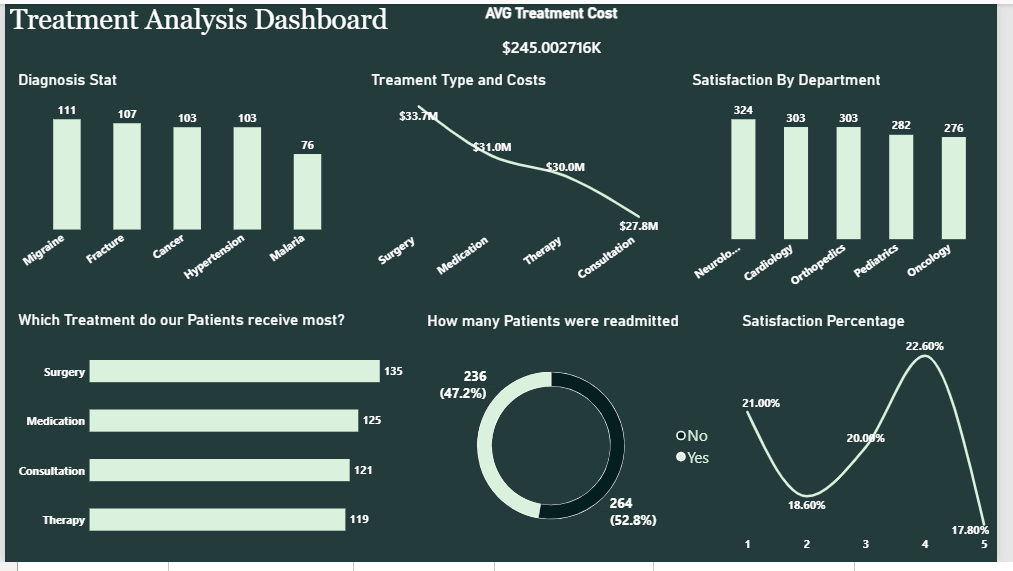

The dashboard page shown, as its layout file describes it:
{"tool":"powerbi","page":{"name":"Treatment Dashboard","canvas":[1920,1080],"ordinal":3},"visuals":[{"type":"textbox","box":[10,0,776,84],"z":0},{"type":"columnChart","title":"Diagnosis Stat","fields":{"Category":["HealthcareData.Diagnosis"],"Y":["CountNonNull(HealthcareData.Patient_ID)"]},"box":[10,115,670,453.3],"z":1000},{"type":"clusteredBarChart","title":"Which Treatment do our  Patients receive most?","fields":{"Category":["HealthcareData.Treatment_Type"],"Y":["CountNonNull(HealthcareData.Patient_ID)"]},"box":[10,579.6,776.7,500],"z":2000},{"type":"lineChart","title":"Treament Type and Costs","fields":{"Category":["HealthcareData.Treatment_Type"],"Y":["Sum(HealthcareData.Treatment_Cost)"]},"box":[693.3,115,606.7,453.3],"z":3000},{"type":"donutChart","title":"How many Patients were readmitted","fields":{"Category":["HealthcareData.Readmission"],"Y":["CountNonNull(HealthcareData.Patient_ID)"]},"box":[801.7,580,586.7,500],"z":4000},{"type":"lineChart","title":"Satisfaction Percentage","fields":{"Category":["HealthcareData.Patient_Satisfaction"],"Y":["Divide(CountNonNull(HealthcareData.Patient_ID), ScopedEval(CountNonNull(HealthcareData.Patient_ID), []))"]},"box":[1410,580,510,500],"z":5000},{"type":"columnChart","title":"Satisfaction By Department","fields":{"Category":["HealthcareData.Department"],"Y":["Sum(HealthcareData.Patient_Satisfaction)"]},"box":[1313.3,115,606.7,465],"z":6000},{"type":"cardVisual","title":"AVG Treatment Cost","fields":{"Data":["HealthcareData.AVG Treament Cost"]},"box":[908,0,300,116],"z":7000}]}

Visuals, with their boxes in screenshot pixels (x1, y1, x2, y2), scaled from the page's 1920x1080 canvas onto the 1013x571 screenshot:
textbox: (x1=5, y1=0, x2=415, y2=44)
"Diagnosis Stat" columnChart: (x1=5, y1=61, x2=359, y2=300)
"Which Treatment do our  Patients receive most?" clusteredBarChart: (x1=5, y1=306, x2=415, y2=570)
"Treament Type and Costs" lineChart: (x1=366, y1=61, x2=686, y2=300)
"How many Patients were readmitted" donutChart: (x1=423, y1=307, x2=733, y2=570)
"Satisfaction Percentage" lineChart: (x1=744, y1=307, x2=1012, y2=570)
"Satisfaction By Department" columnChart: (x1=693, y1=61, x2=1012, y2=307)
"AVG Treatment Cost" cardVisual: (x1=479, y1=0, x2=637, y2=61)
